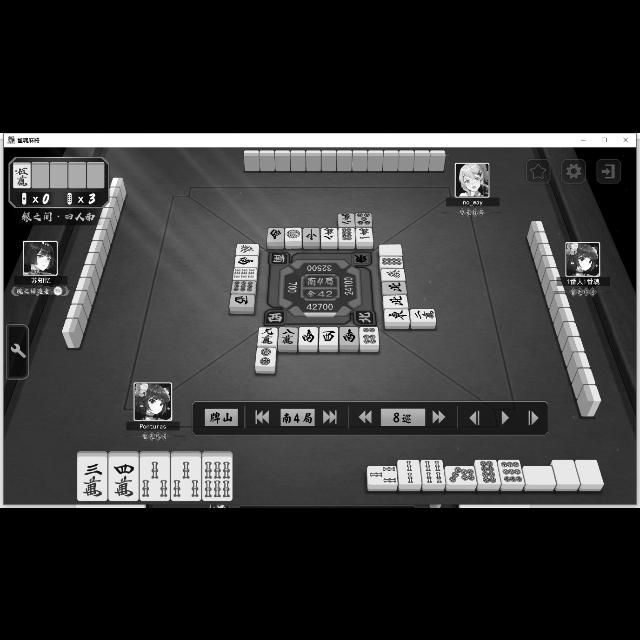1m: (356, 226, 374, 240)
1p: (284, 226, 302, 242)
2m: (411, 308, 437, 320), (338, 212, 354, 226)
2p: (254, 346, 276, 366)
2s: (397, 460, 421, 484)
3m: (78, 456, 109, 499)
3s: (140, 455, 170, 499), (170, 455, 200, 499), (367, 466, 398, 484)
4m: (109, 456, 138, 500)
4s: (423, 459, 447, 485)
5m: (13, 162, 31, 188)
5p: (355, 210, 373, 226)
6p: (360, 324, 378, 346)
6s: (201, 455, 233, 499)
7p: (446, 464, 476, 484)
8m: (276, 327, 296, 345), (322, 225, 338, 242)
8p: (475, 460, 501, 484), (379, 256, 403, 268), (338, 226, 356, 242)
9m: (258, 326, 276, 346)
9p: (500, 458, 524, 484), (230, 280, 256, 292)
9s: (233, 266, 257, 280)
chun: (302, 226, 320, 242)
haku: (553, 459, 581, 485), (576, 458, 604, 484), (524, 466, 556, 484), (378, 243, 402, 254)
hatsu: (382, 268, 406, 280), (236, 242, 258, 255)
nan: (298, 326, 318, 346), (339, 326, 358, 344), (268, 225, 284, 242), (233, 256, 259, 266)
pe: (381, 294, 409, 308), (382, 282, 406, 292)
sha: (227, 292, 255, 308), (318, 326, 338, 344)
tou: (385, 308, 409, 322)
